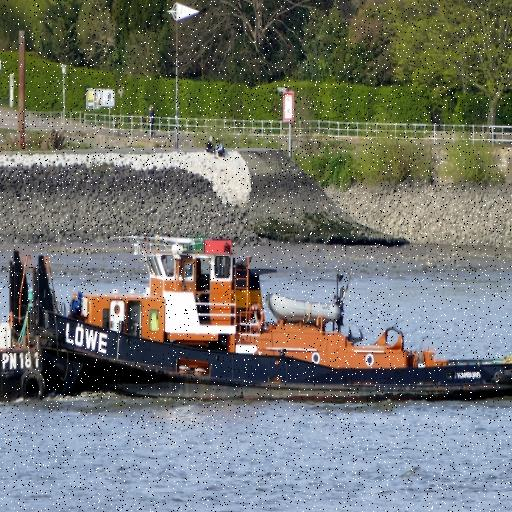tugboat: (7, 229, 512, 414)
